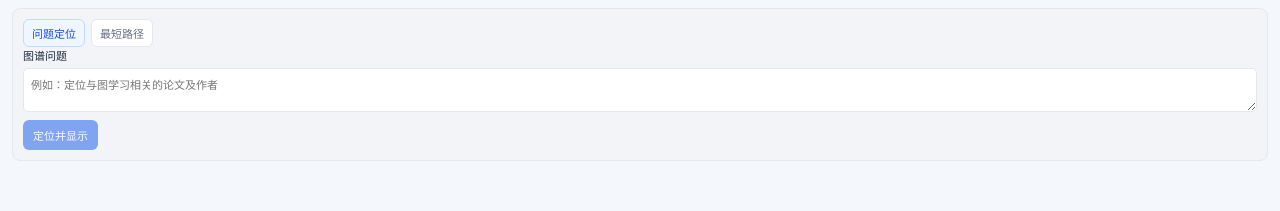
Test: GraphExplorePanel › delegates a question to full-dataset tools and requests a visualized result
The width and height of the screenshot is (1280, 211).
In the text box labelled "图谱问题": point(640, 90) [23,68,1257,112], type "图学习相关论文"
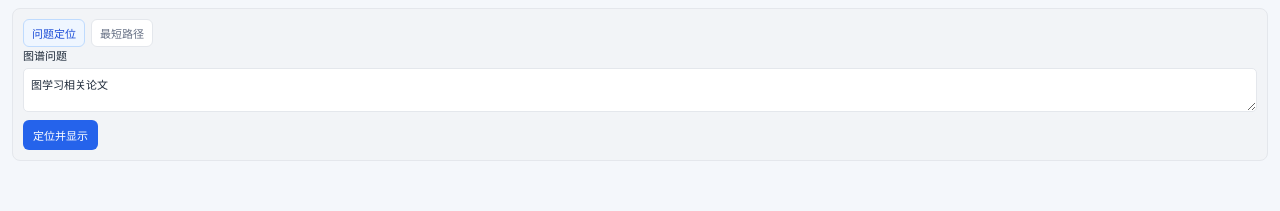
Click the button "定位并显示": point(60, 135) [23,120,98,150]
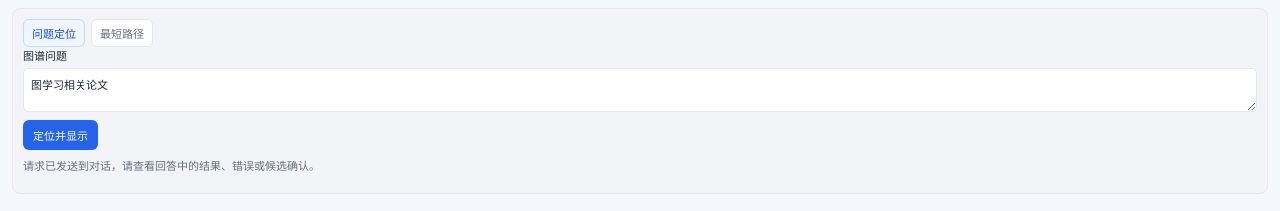
Result: the message shows "候选确认" at [23,159,320,173]
